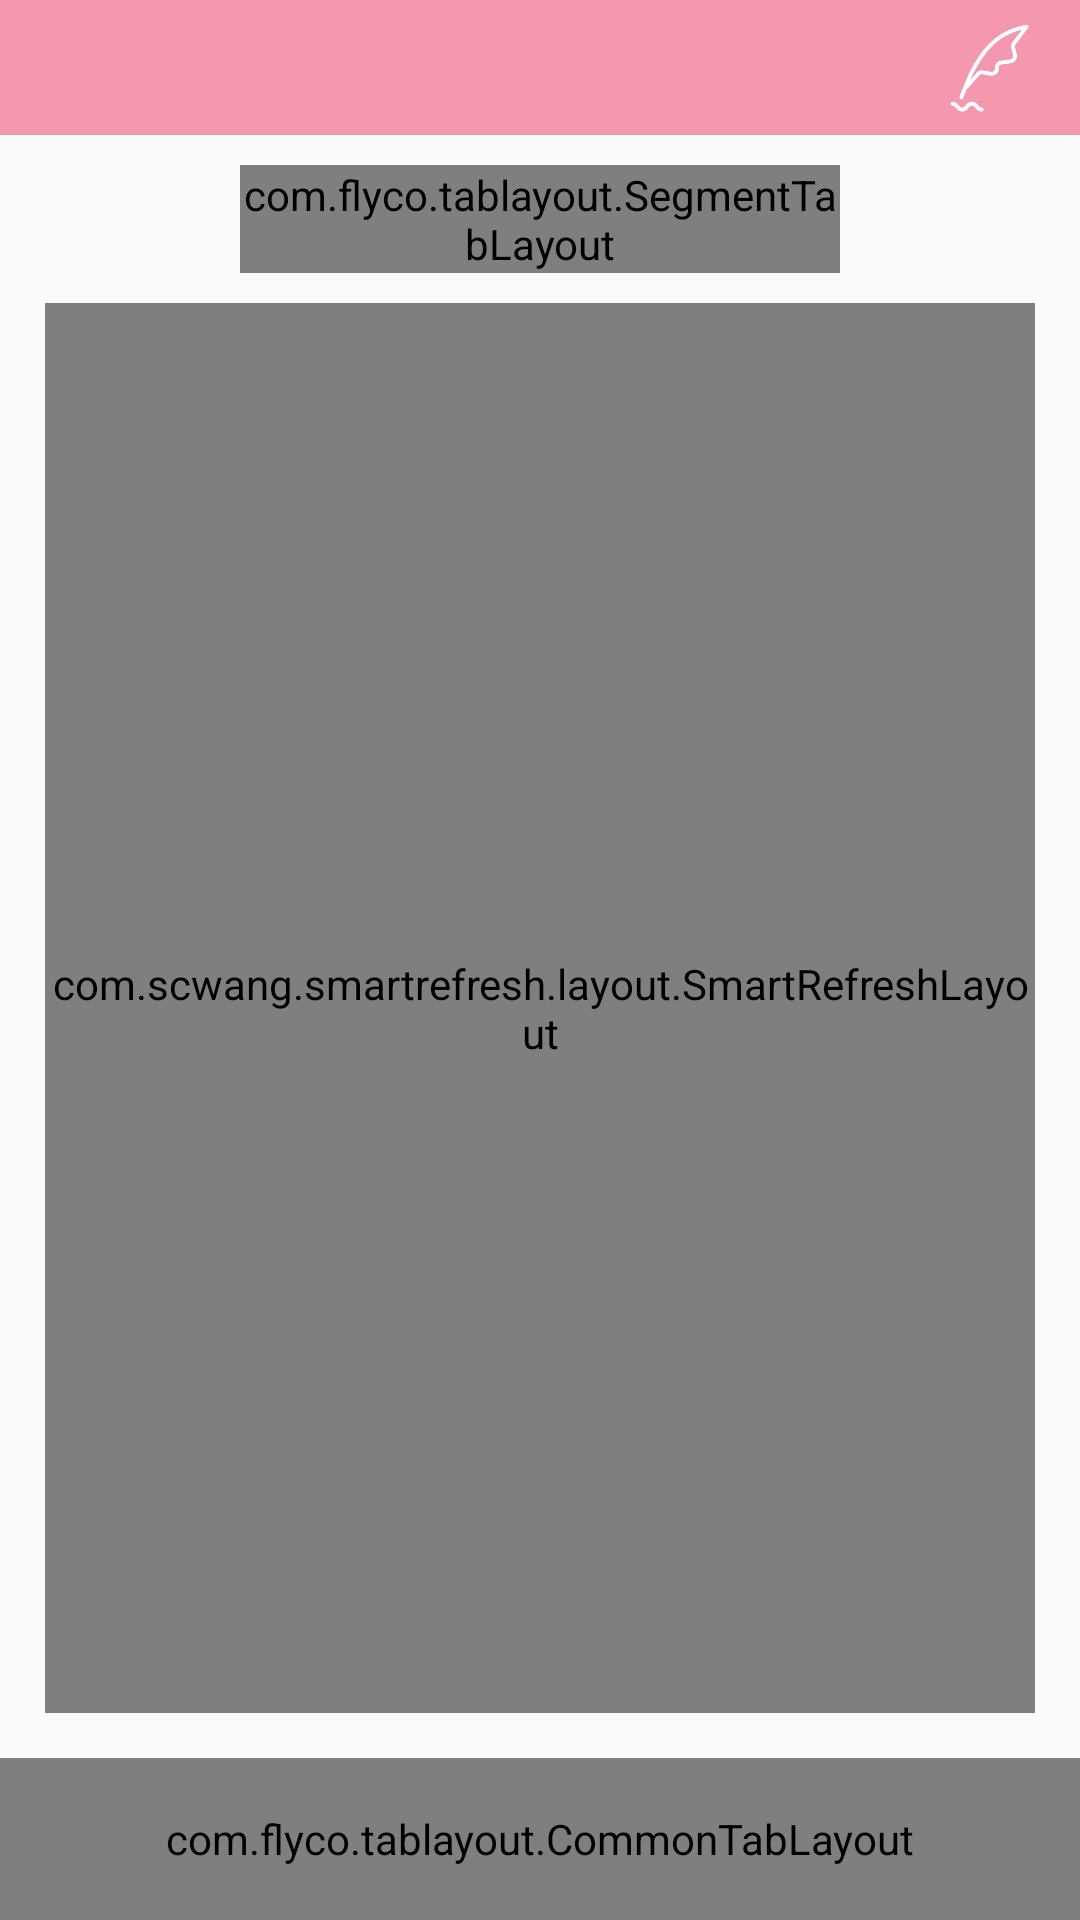

Where icons sit on this 1080 x 1920 app screen, as (x1, y1, x2, y2):
record: (950, 24, 1029, 112)
